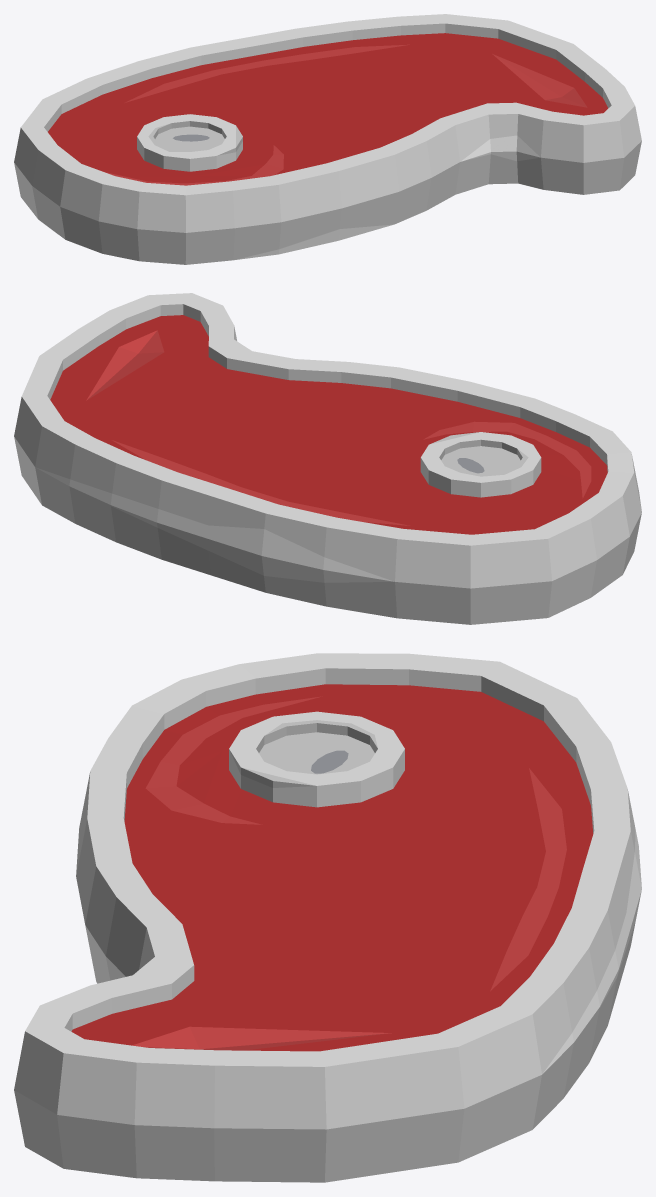
Rendered from mesh_meat.fbx.
3 views of the same model, one above another, from view 1: azimuth 30°, elevation 25°; view 2: azimuth 150°, elevation 25°; view 3: azimuth 270°, elevation 25° (orthographic). The views are drawn at different scales.
Visible parts, largest first — view 1: mesh_meat; view 2: mesh_meat; view 3: mesh_meat.
Boxes of the visible parts, <box> form: mesh_meat: <box>14,14,641,264</box>; mesh_meat: <box>14,293,641,624</box>; mesh_meat: <box>14,653,641,1182</box>.
Size of the model in its own units: 0.6551 by 0.0909 by 0.411.
